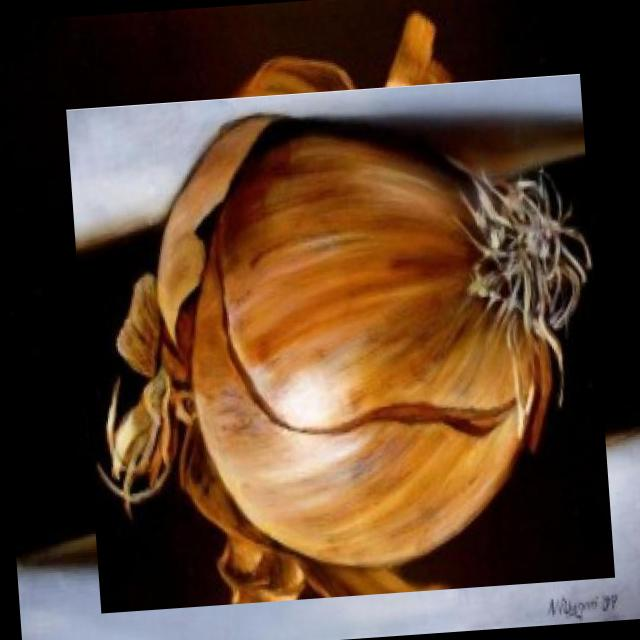Onion: (65, 73, 615, 613)
